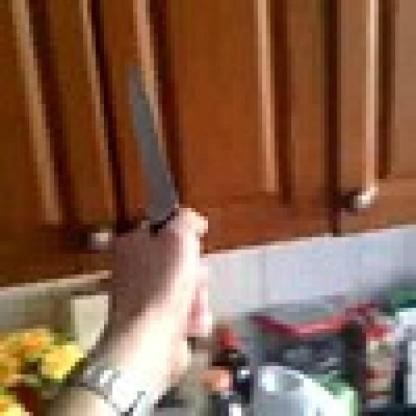Knife: (121, 71, 179, 229)
